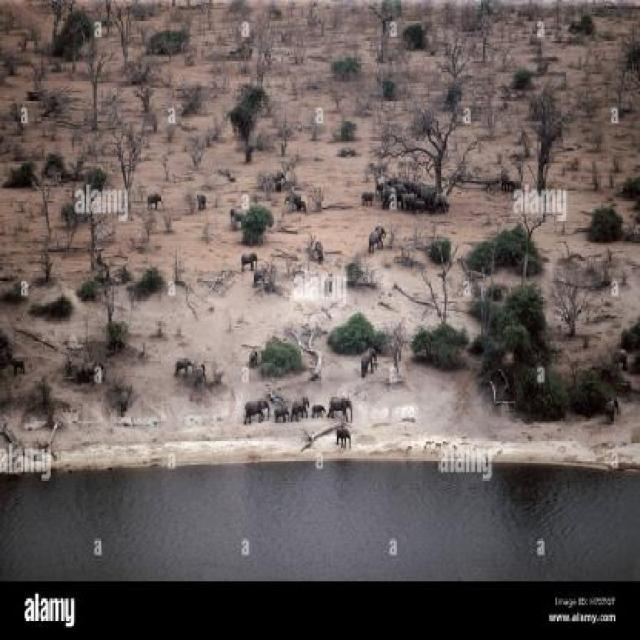elephant: (353, 344, 378, 379), (168, 343, 198, 372), (326, 395, 360, 416), (312, 230, 331, 264), (186, 354, 205, 388), (245, 394, 269, 420), (327, 422, 351, 448), (289, 392, 313, 417), (238, 243, 262, 266), (248, 262, 270, 287), (241, 342, 261, 367), (142, 189, 164, 211), (274, 398, 289, 428), (368, 220, 383, 249), (308, 396, 326, 418), (288, 195, 310, 212), (411, 196, 427, 218), (196, 186, 210, 211), (361, 186, 376, 208), (438, 186, 449, 214), (271, 168, 283, 186), (427, 191, 435, 215), (424, 182, 434, 201), (381, 176, 388, 199), (410, 174, 418, 194), (393, 176, 402, 190), (404, 196, 413, 210)
